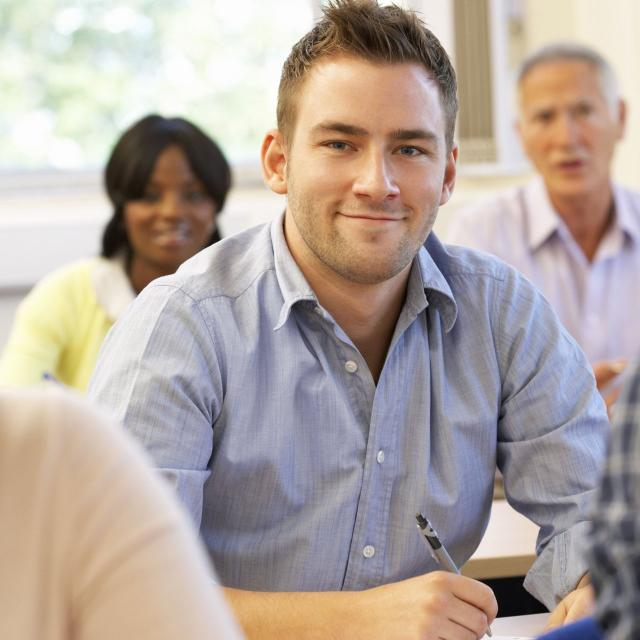adult: (92, 0, 619, 640), (0, 114, 239, 374), (461, 46, 640, 390)
